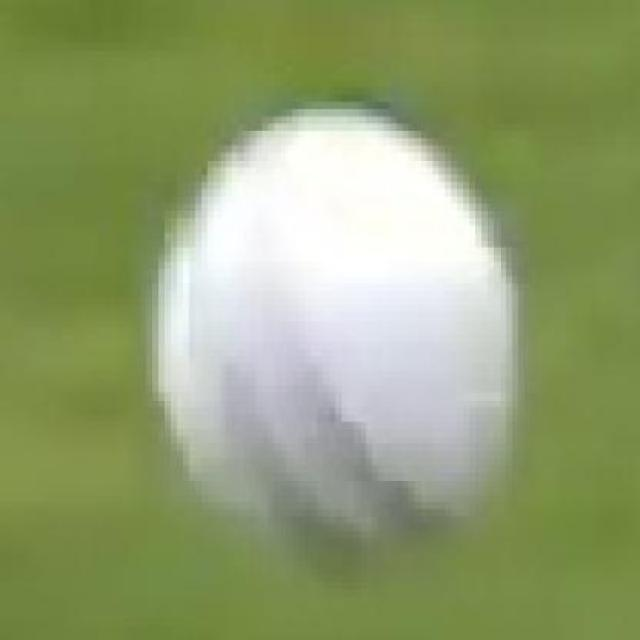Cricket ball: (147, 92, 533, 591)
